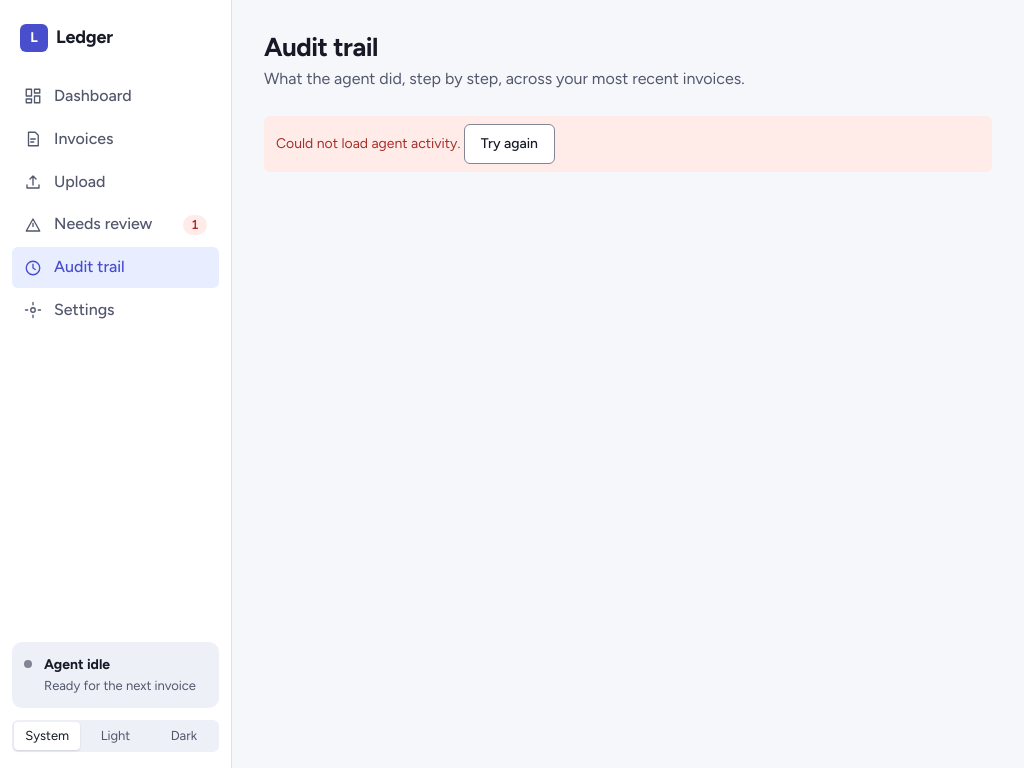
Test: AuditView › offers a retry when every trace failed to load
The image size is (1024, 768).
Expected: the message shows "Could not load agent activity.", x1=276 y1=135 x2=464 y2=152
Click the button "Try again" at {"x": 509, "y": 144}, box x1=464 y1=124 x2=555 y2=164
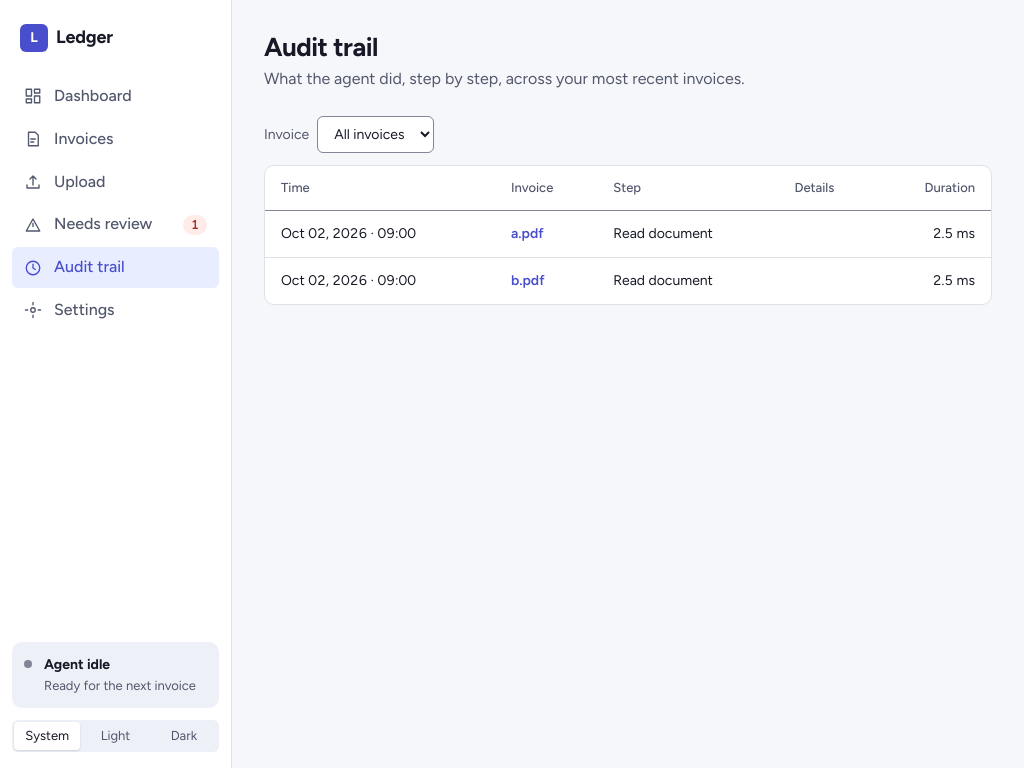
Expected: the table is shown, x1=265 y1=166 x2=991 y2=304
Expected: the text "Read document" next to "a.pdf" is shown, x1=613 y1=225 x2=713 y2=242
